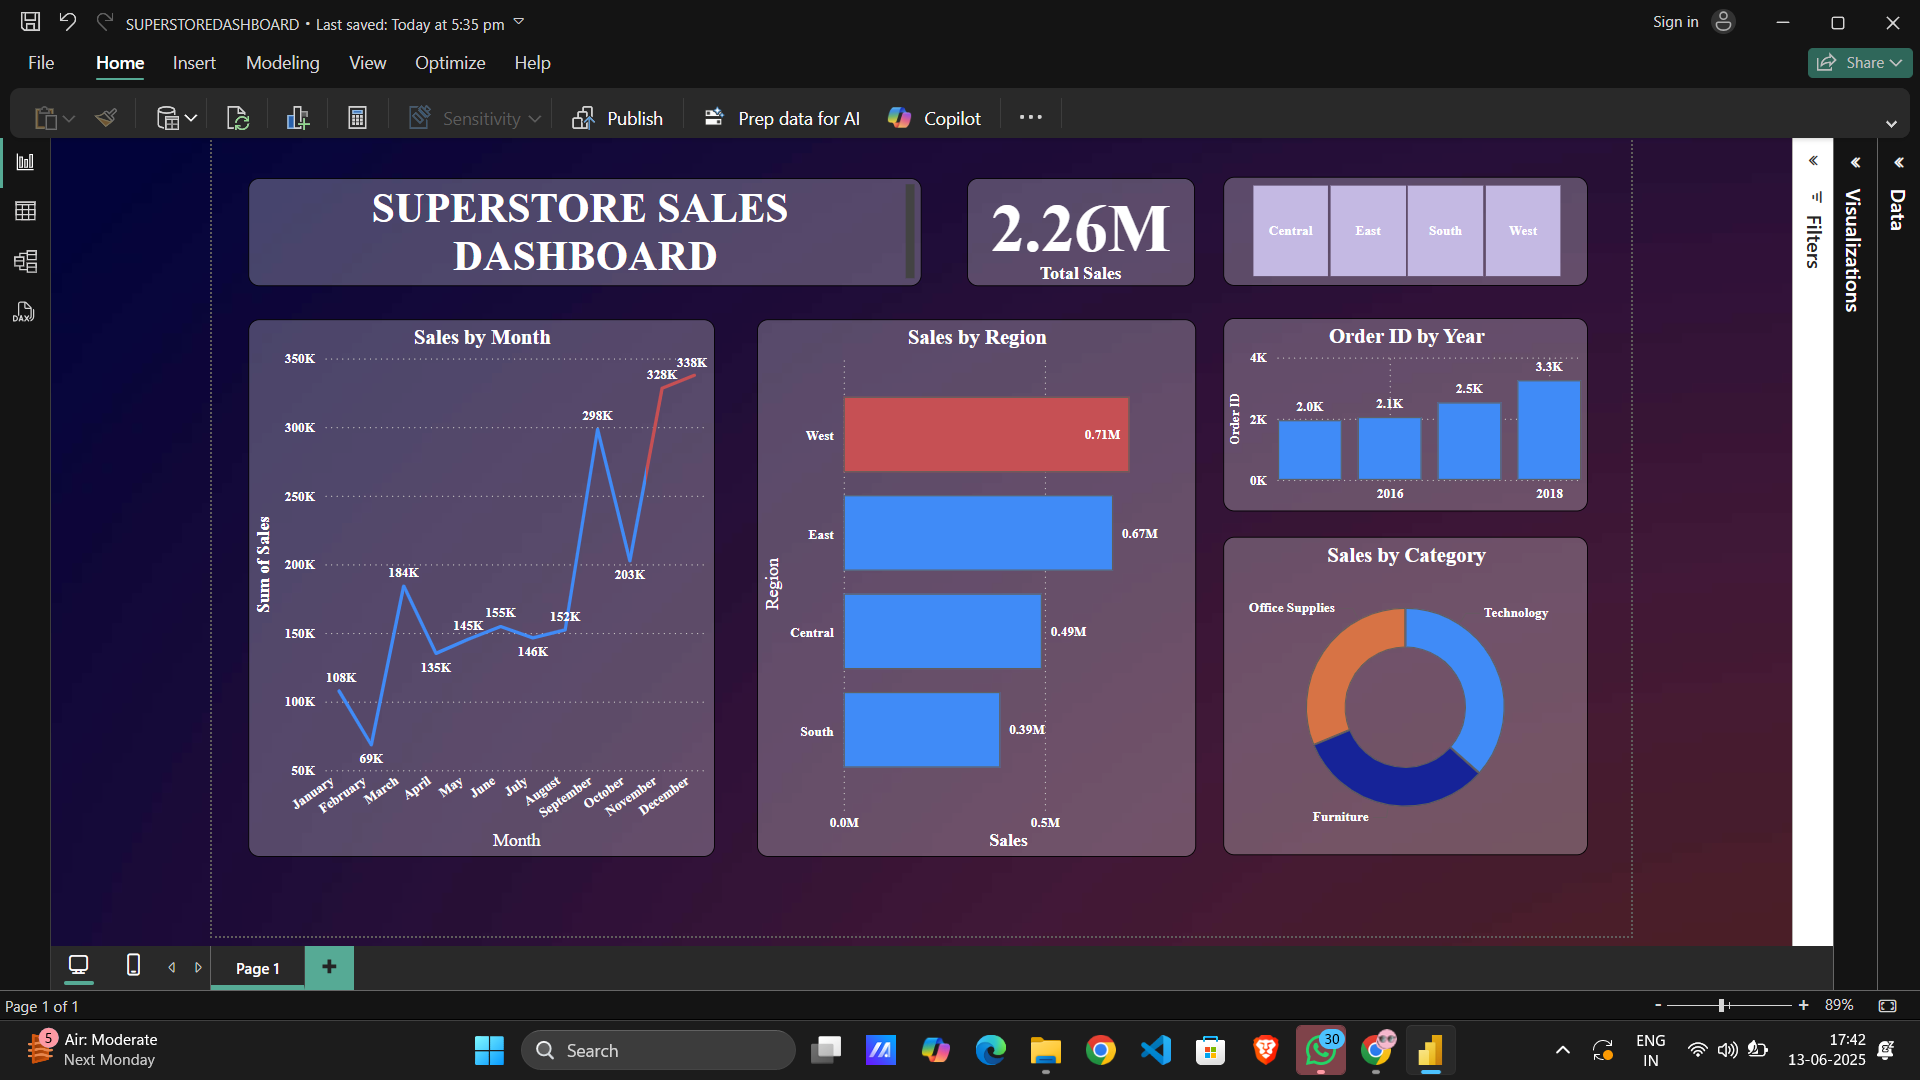

This screenshot's page, from the dashboard's own definition file:
{"tool":"powerbi","page":{"name":"Page 1","canvas":[1280,720],"ordinal":0},"visuals":[{"type":"textbox","box":[32.6,36,607,97.7],"z":0},{"type":"card","fields":{"Values":["Sum(train.Sales)"]},"box":[680.2,36,205.8,97.7],"z":1000},{"type":"lineChart","title":"Sales by Month","fields":{"Y":["Sum(train.Sales)"],"Category":["train.Ship Date.Variation.Date Hierarchy.Month"]},"box":[32.7,163.4,420.4,484.7],"z":2000},{"type":"barChart","title":"Sales by Region","fields":{"Category":["train.Region"],"Y":["Sum(train.Sales)"]},"box":[491.4,163.4,395.6,484.7],"z":3000},{"type":"donutChart","title":"Sales by Category","fields":{"Y":["Sum(train.Sales)"],"Category":["train.Category"]},"box":[911.8,359.6,329.1,287.4],"z":4000},{"type":"slicer","fields":{"Values":["train.Region"]},"box":[911.8,34.9,329.1,98.1],"z":5000},{"type":"columnChart","fields":{"Category":["train.Order Date.Variation.Date Hierarchy.Year"],"Y":["CountNonNull(train.Order ID)"]},"box":[911.6,162.8,329.1,174.4],"z":6000}]}

Visuals, with their boxes on the page's 1280x720 design canvas (x1, y1, x2, y2). These are canvas units, not pixel positions in the 1920x1080 screenshot, which may show the page scaled, cropped or inside an application window:
textbox: x1=33, y1=36, x2=640, y2=134
card - Sum(train.Sales): x1=680, y1=36, x2=886, y2=134
"Sales by Month" lineChart: x1=33, y1=163, x2=453, y2=648
"Sales by Region" barChart: x1=491, y1=163, x2=887, y2=648
"Sales by Category" donutChart: x1=912, y1=360, x2=1241, y2=647
slicer - train.Region: x1=912, y1=35, x2=1241, y2=133
columnChart - train.Order Date.Variation.Date Hierarchy.Year x CountNonNull(train.Order ID): x1=912, y1=163, x2=1241, y2=337
